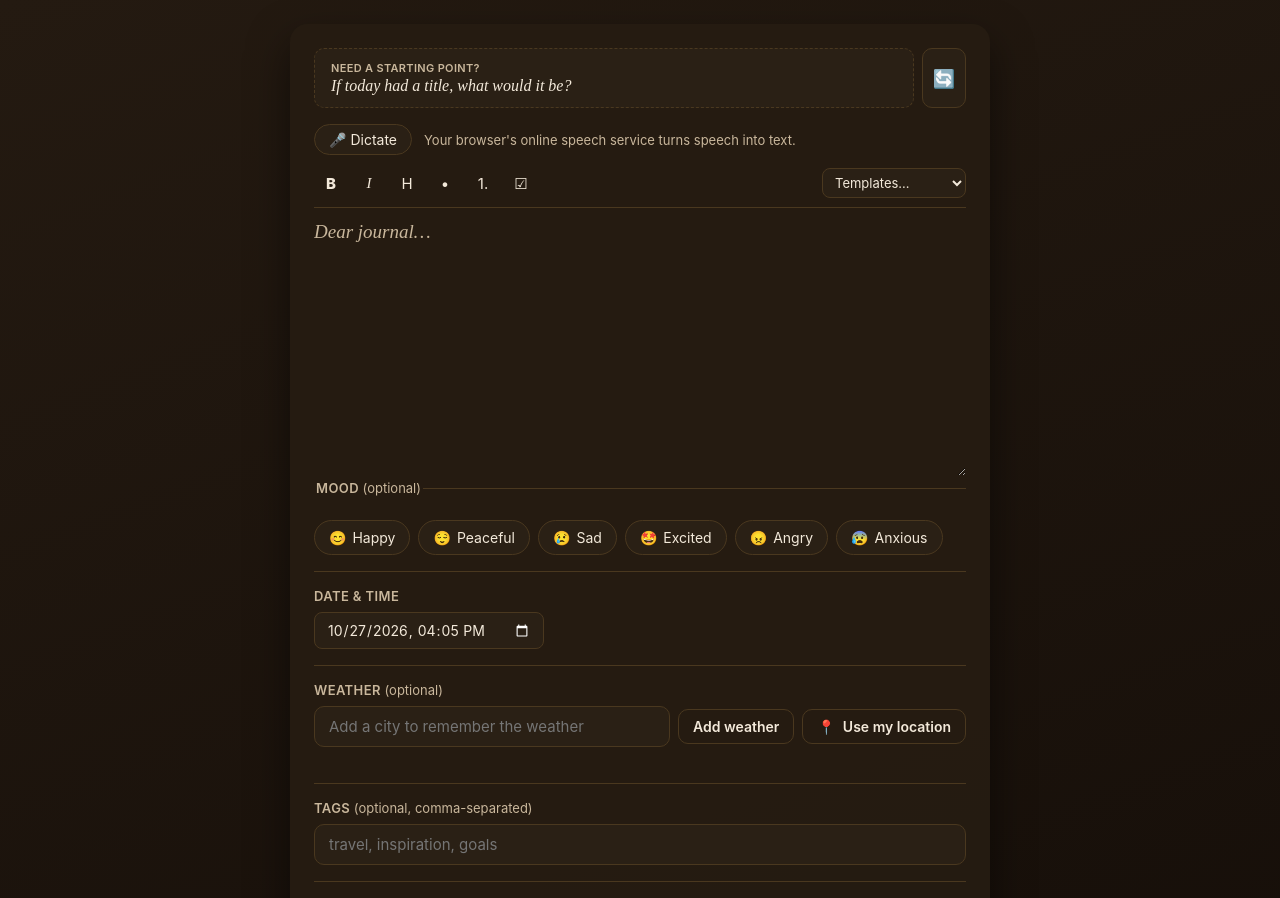
Test: Weather in the entry form › says it will look up historical weather for a past date
Replace the text in the field with id "dateInput" with "2025-03-10T09:30". click: (429, 630)
box: [314,612,544,649]
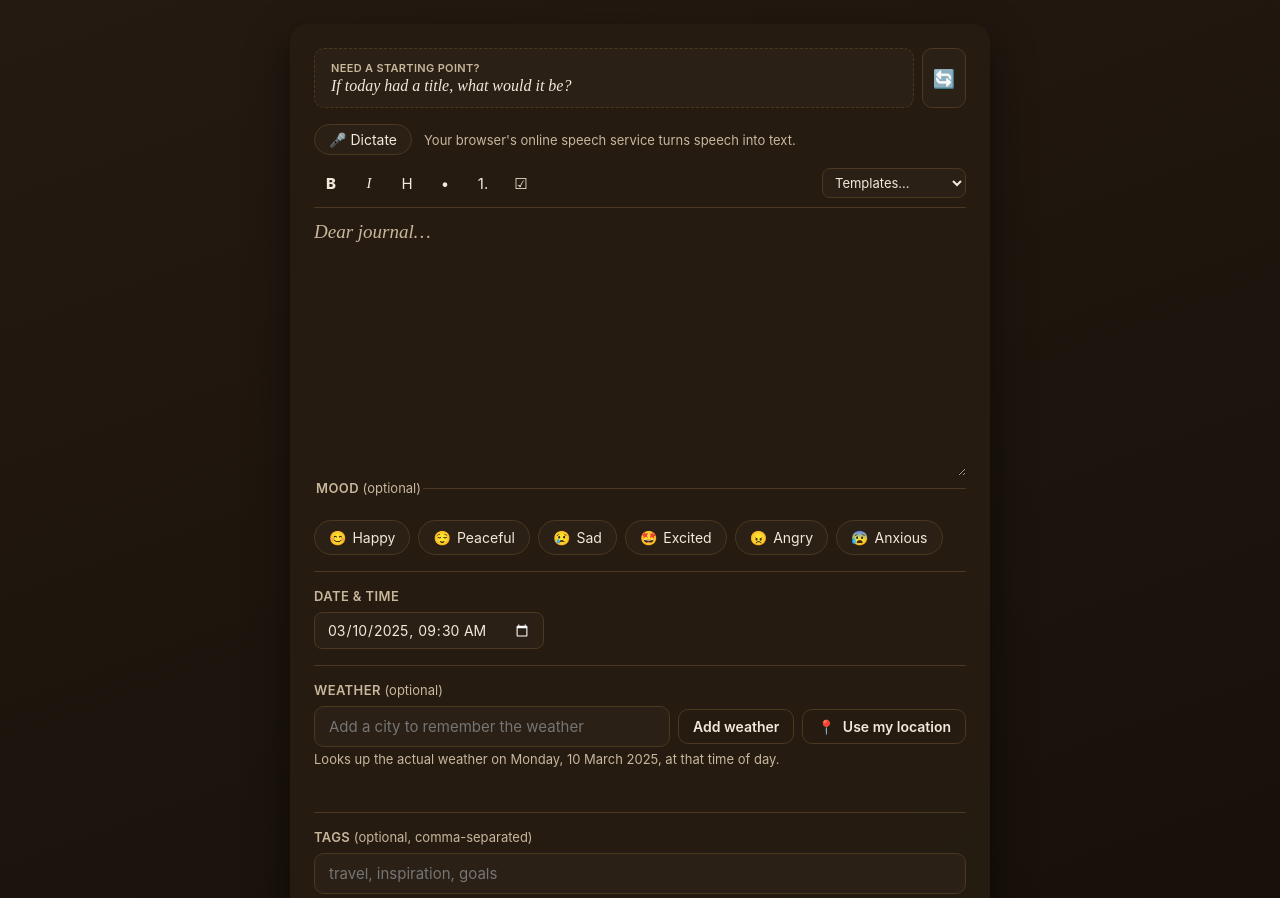
Check: the text "Looks up the actual weather on Monday, 10 March 2025" is shown, box [314,751,780,767]
Type "Pune" into the field with id "locationInput". click: (492, 726)
box: [314,706,670,747]
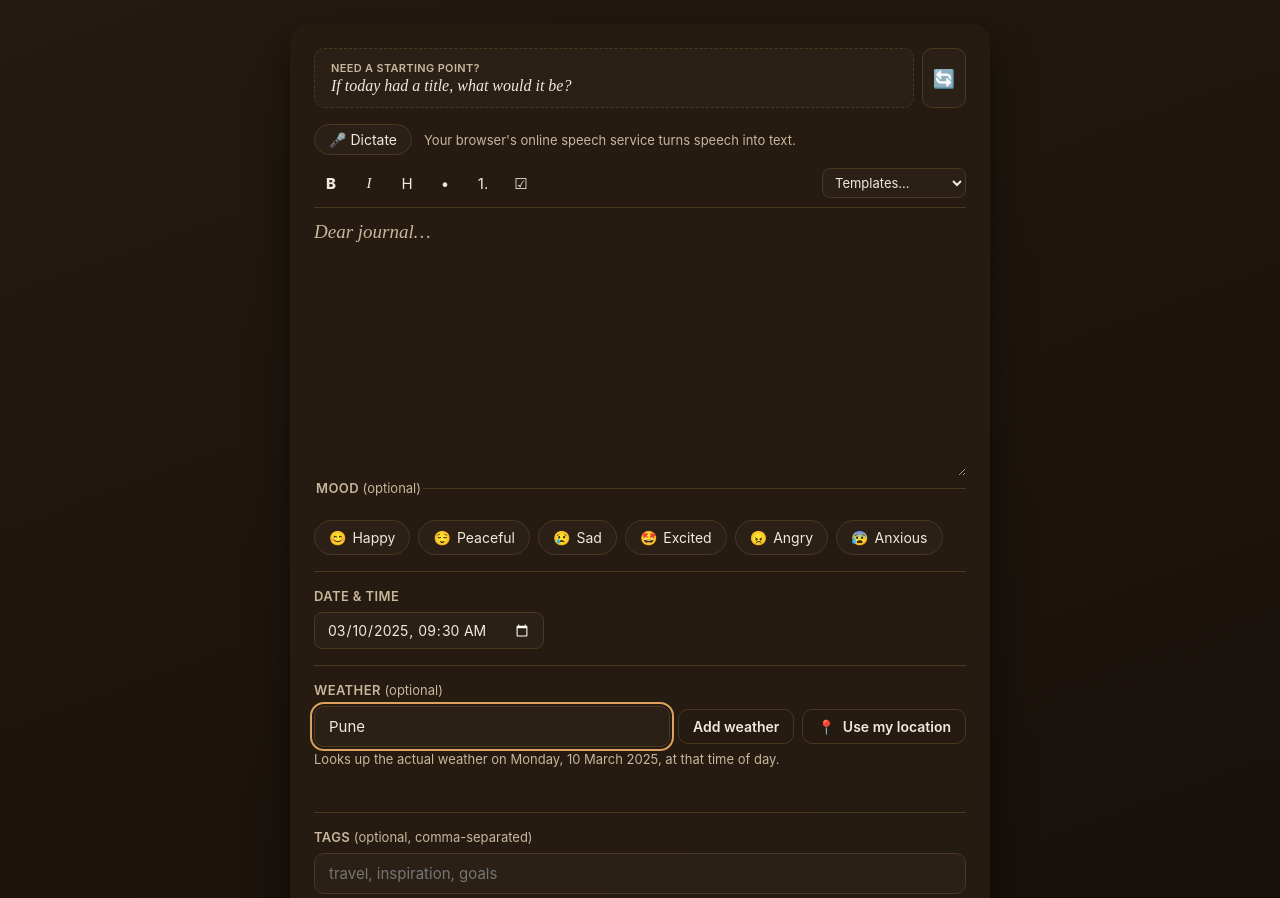
Click the button with aria-label "fetch weather data". click: click(736, 726)
box: [678,709,794,744]
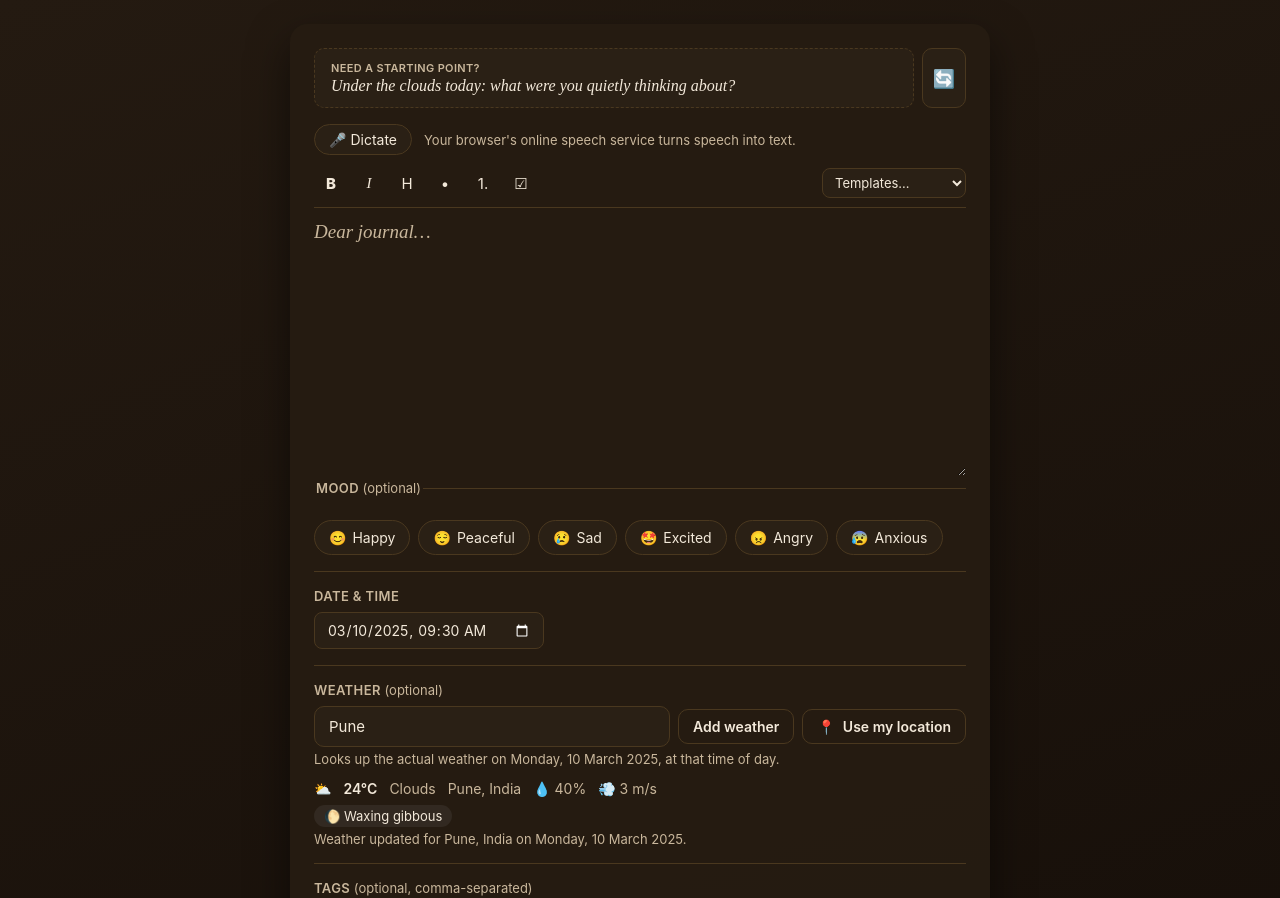
Check: the text "Weather updated for Pune, India on Monday, 10 March 2025." is shown, box [314,831,686,847]
